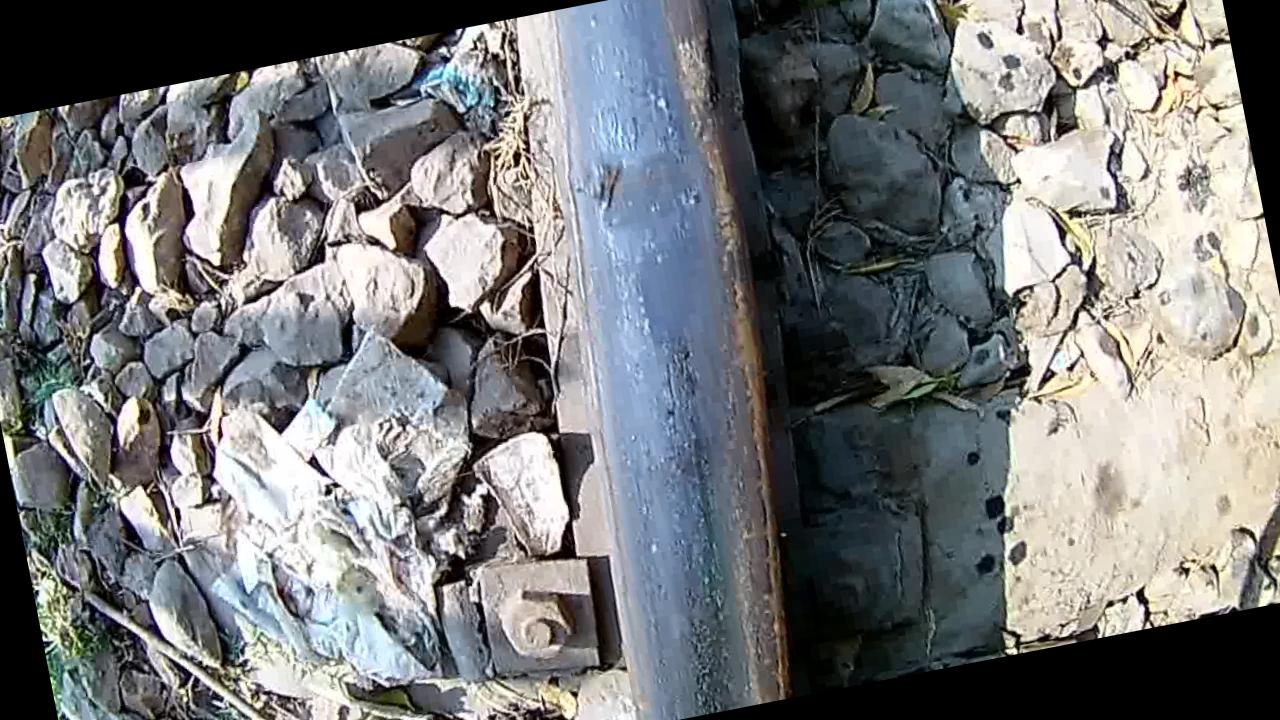bolt_missing: (524, 0, 819, 640)
